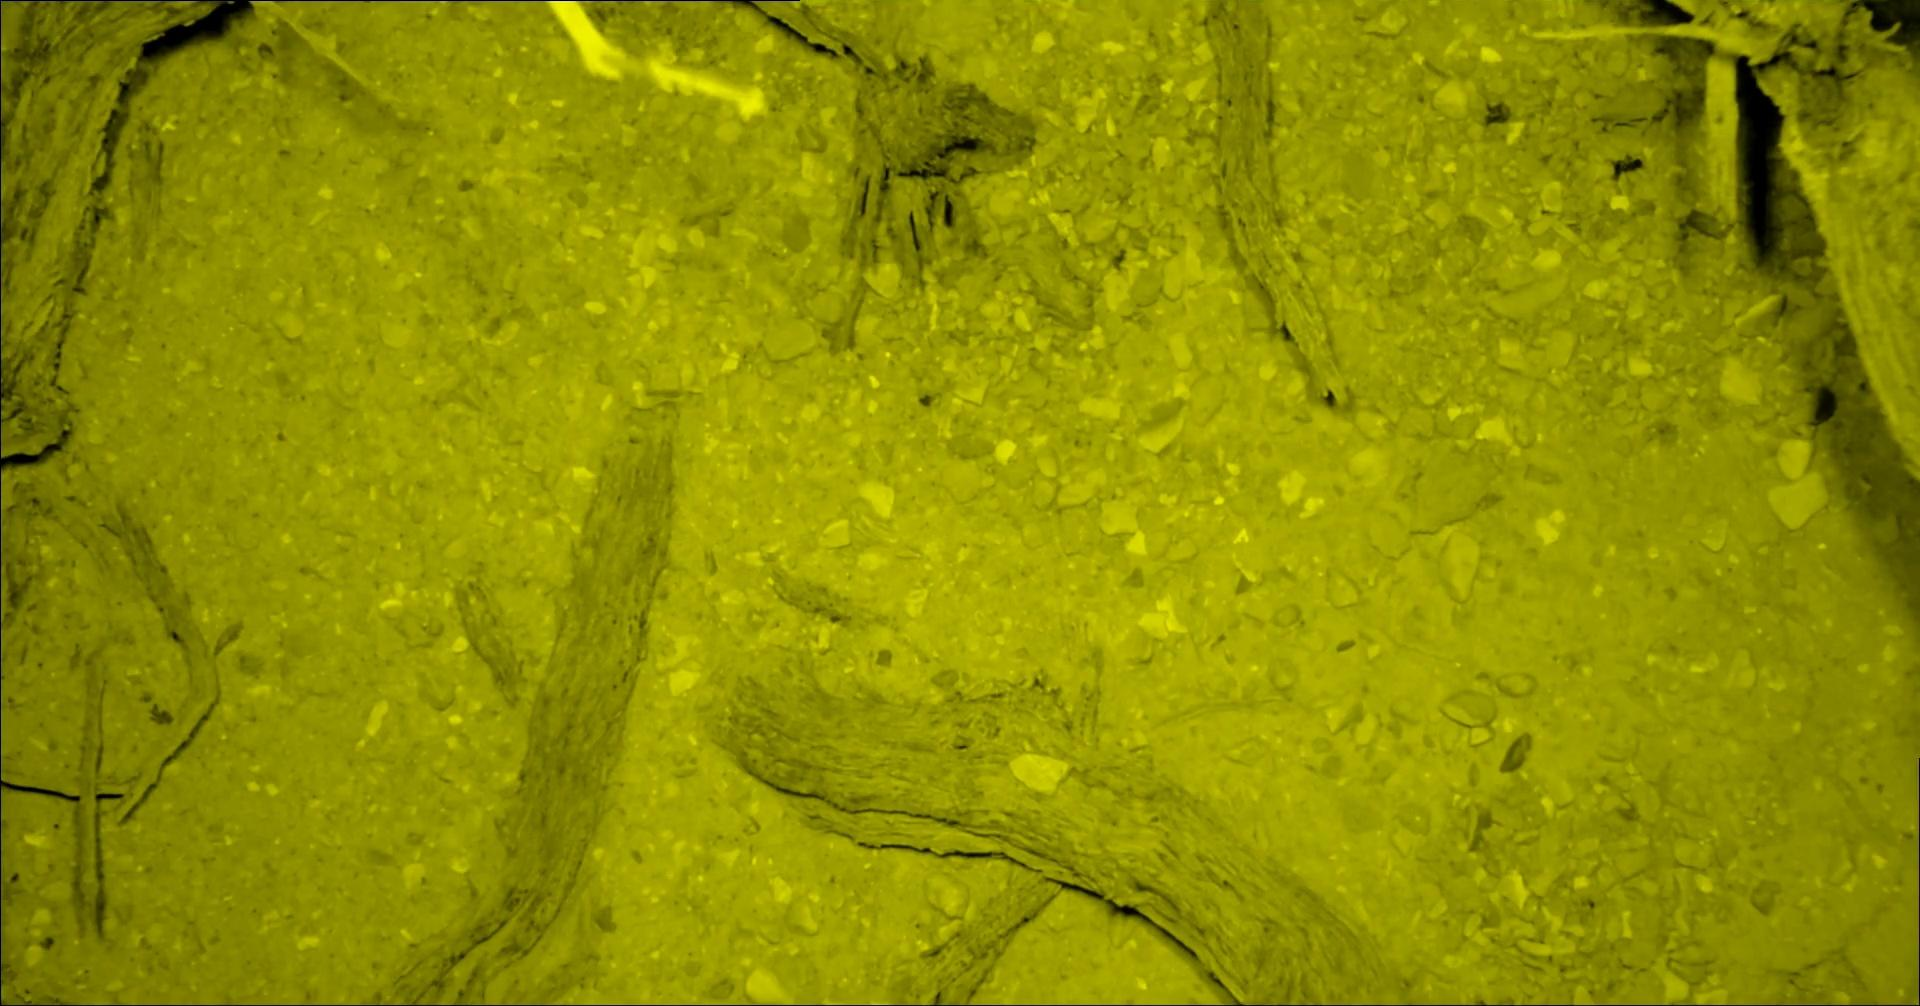ant: (0, 0, 175, 9), (0, 818, 1, 989)
